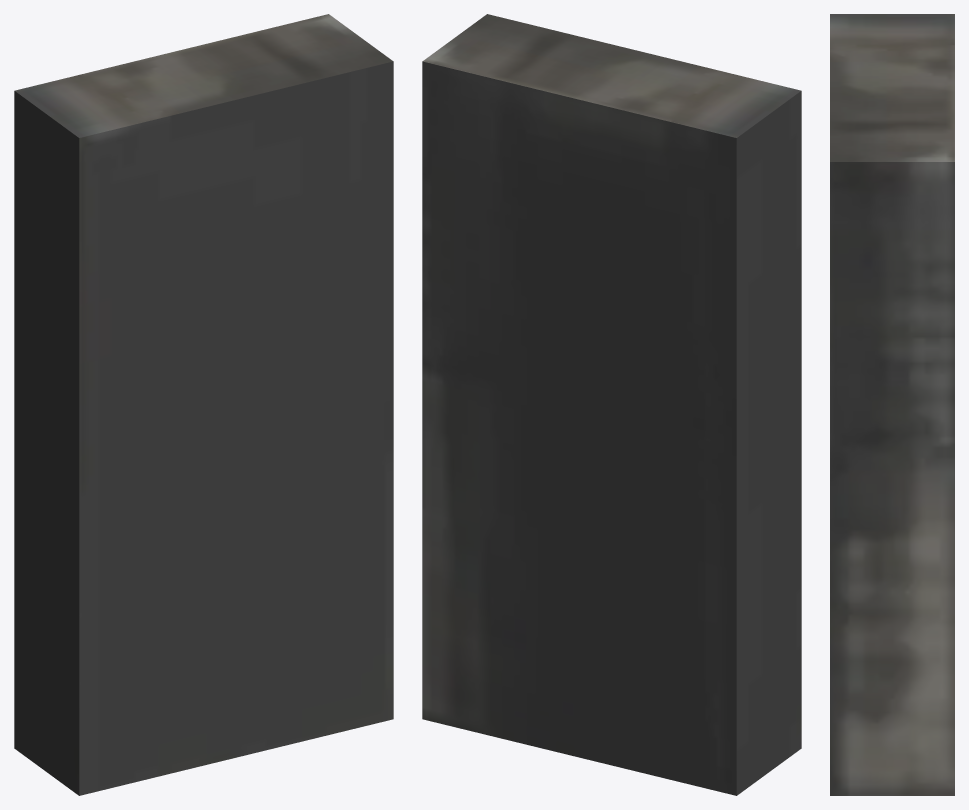
File: reel_bank__center_reel_symbol_band.glb
3 renders of one model, left to right at view 1: azimuth 30°, elevation 25°; view 2: azimuth 150°, elevation 25°; view 3: azimuth 270°, elevation 25°, orthographic. The views are drawn at different scales.
Visible parts, largest first — view 1: world; view 2: world; view 3: world.
Boxes of the visible parts, bbox=[...] form: world: bbox=[14, 14, 393, 795]; world: bbox=[422, 14, 801, 795]; world: bbox=[830, 14, 954, 795].
Size of the model in its own units: 0.07 by 0.14 by 0.025.
1 material, 1 textured.
